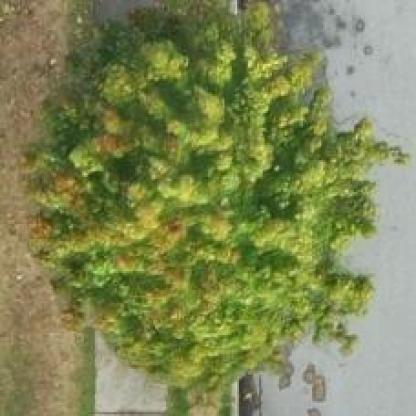Deciduous Tree: (25, 1, 402, 400)
